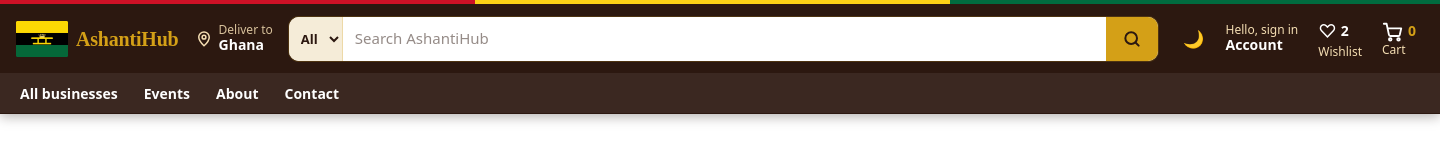
Test: StorefrontHeader › wishlist_and_cart_present_cart_greyed_before_opening
The width and height of the screenshot is (1440, 160).
Click the button "♡ 2 Wishlist".
click(1340, 39)  # box [1310, 14, 1370, 63]
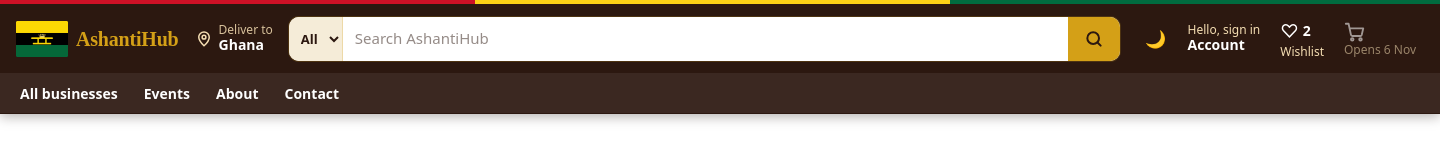
Expected: the button "Opens 6 Nov" is disabled, [1336, 16, 1424, 61]
Expected: the button "Opens 6 Nov" is shown, [1336, 16, 1424, 61]
